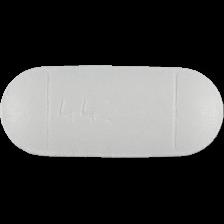50844-390: (0, 0, 224, 224)
